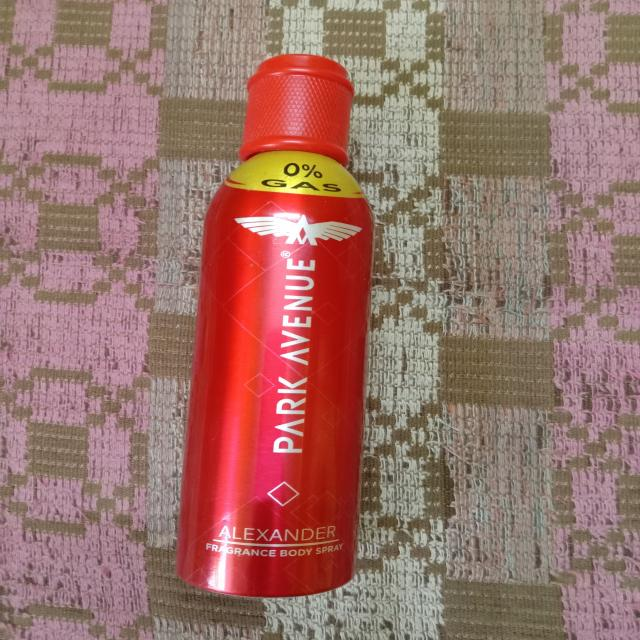deodorant: (175, 26, 376, 596)
